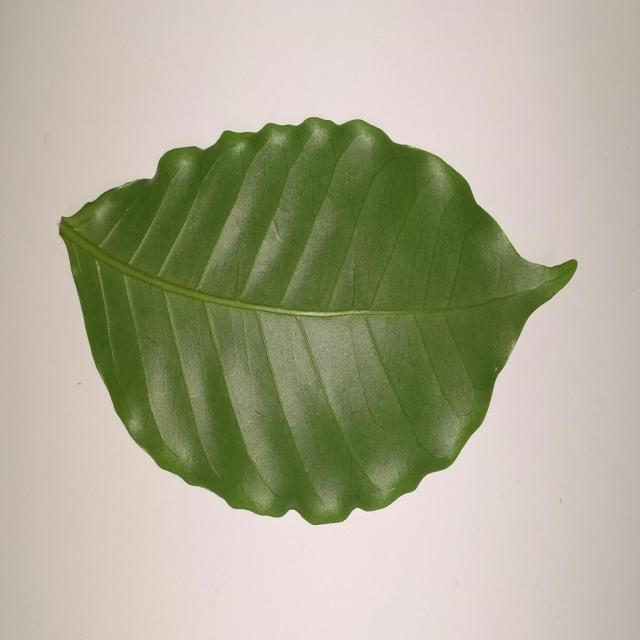Sanas: (58, 118, 580, 529)
